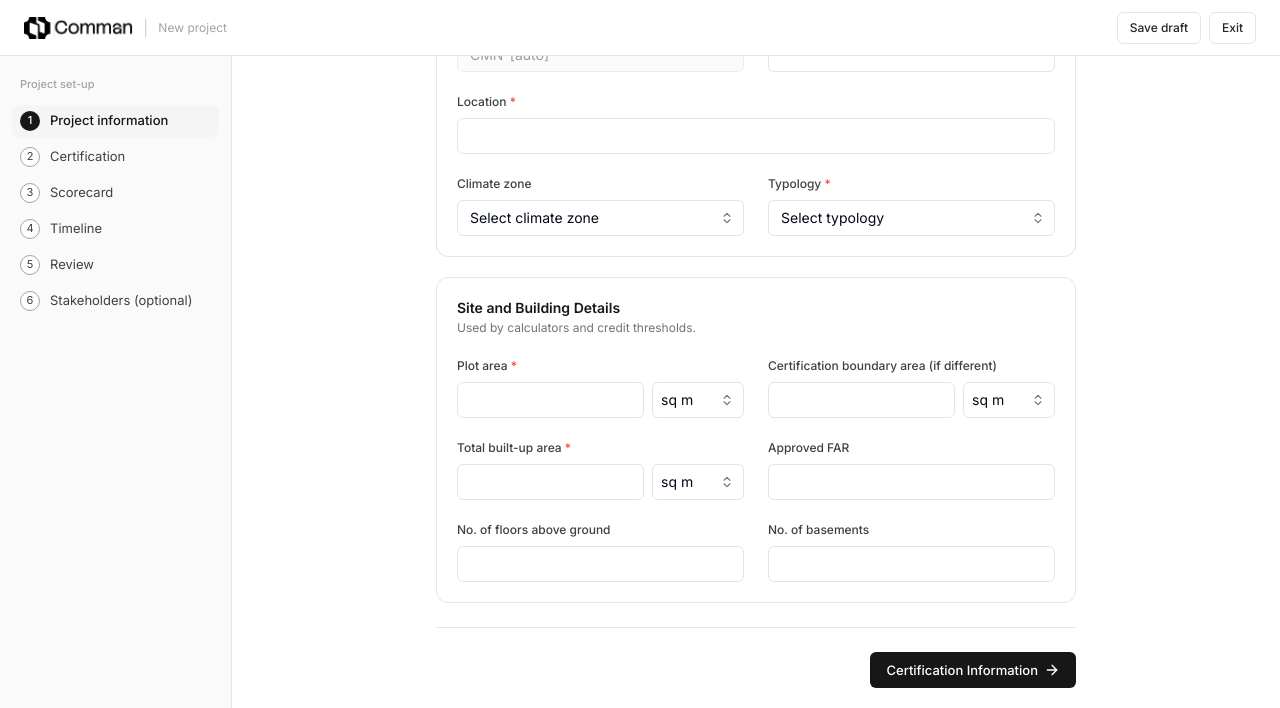
Test case: NewProjectPage › validates required fields before leaving step 1
The image size is (1280, 708).
(page scrolled)
Step 1. Click the button "Certification Information" → coordinates (973, 670), box [870,652,1076,688]
(page scrolled)
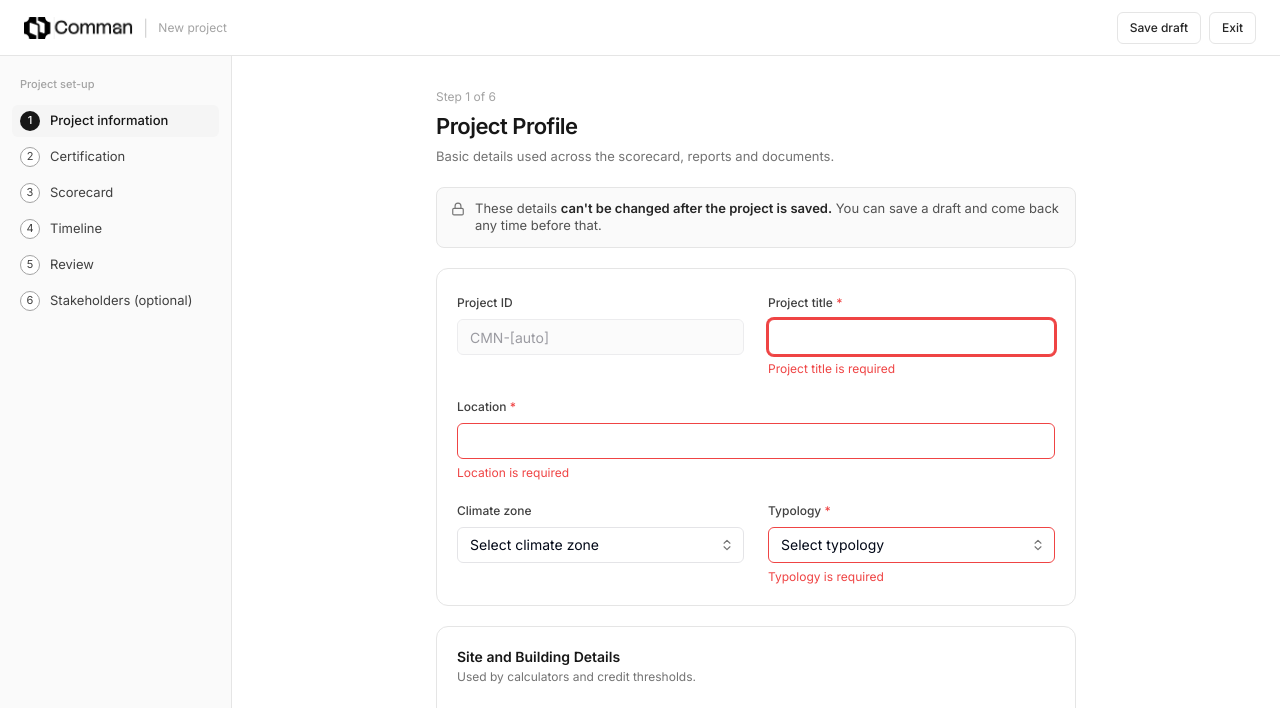
Expected: the text "Project title is required" is shown, [768,361,895,376]
Expected: the text "Location is required" is shown, [457,465,569,480]
Expected: the text "Typology is required" is shown, [768,569,884,584]
